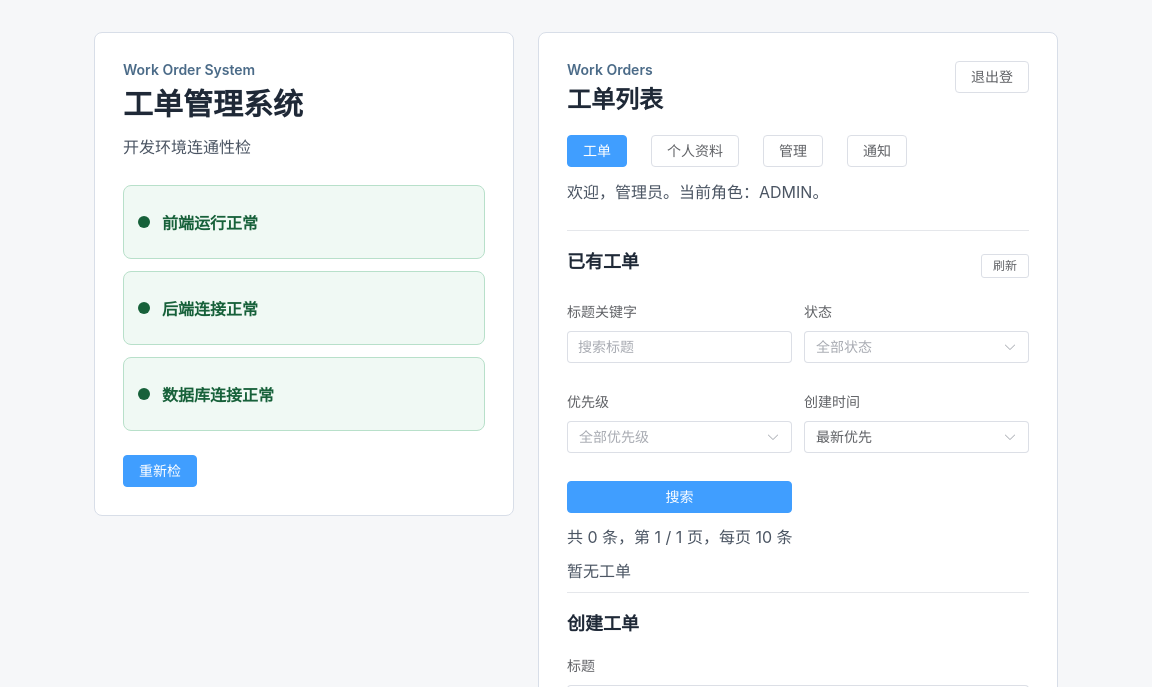
Test case: App › shows empty state when work order statistics has no data
This screenshot has width=1152, height=687.
Click the button "管理": click(793, 151) [763,135,823,167]
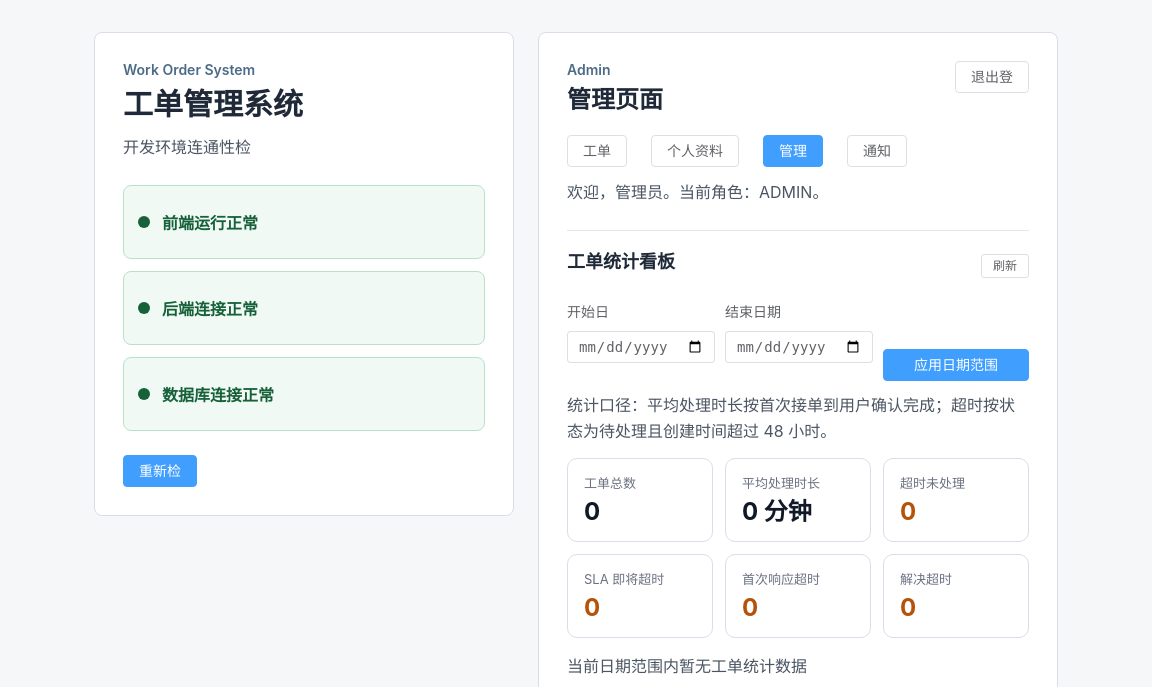
Expected: the text "当前日期范围内暂无工单统计数据" is shown, [567,656,807,676]
Expected: the text "0 分钟" is shown, [742,497,812,526]
